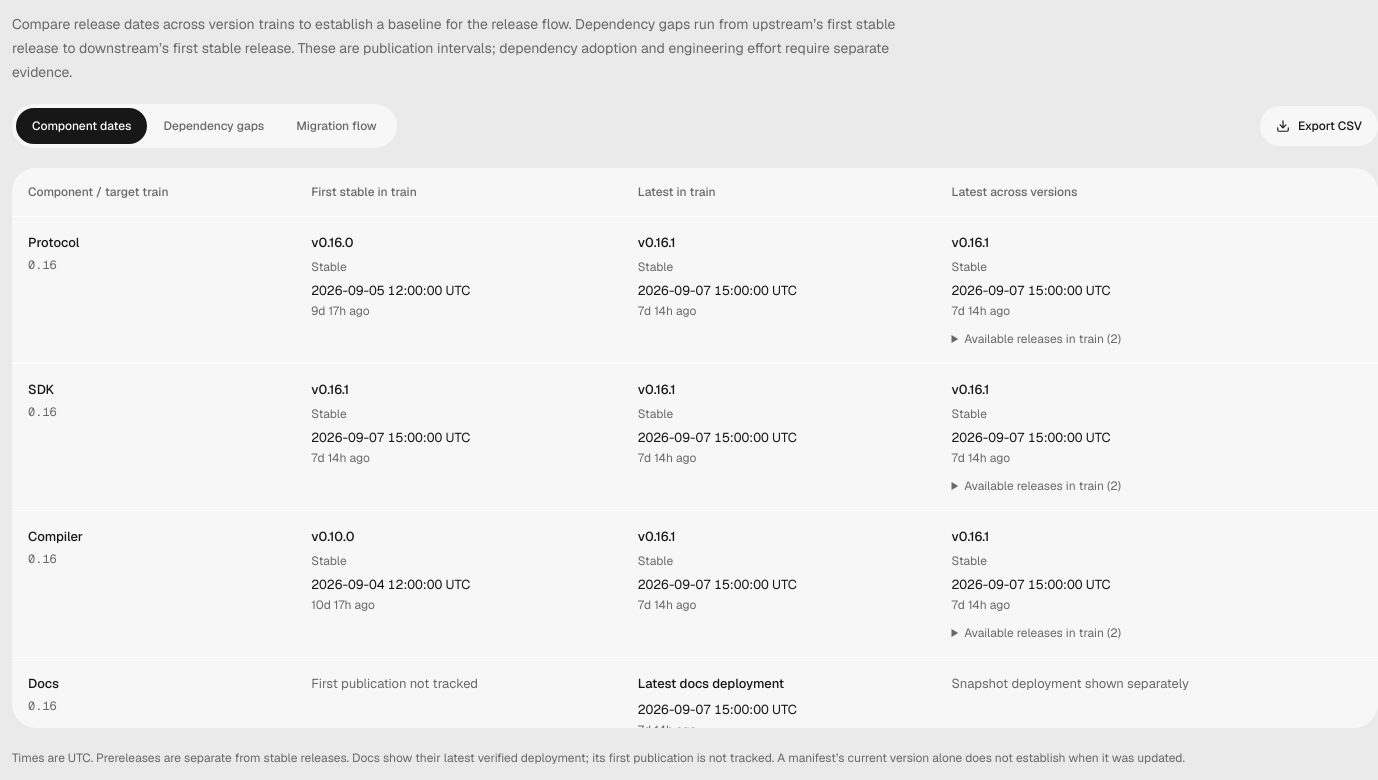
Scenario: ReleaseTimingPanel › switches to signed release gaps and keeps unknown and unmonitored evidence explicit
The image size is (1378, 780).
Expected: the text "First publication not tracked" is shown, [311,675,478,692]
Expected: the link "Latest docs deployment" is shown, [638,674,784,694]
Click the button "Dependency gaps" at [214, 126], box [148,108,280,144]
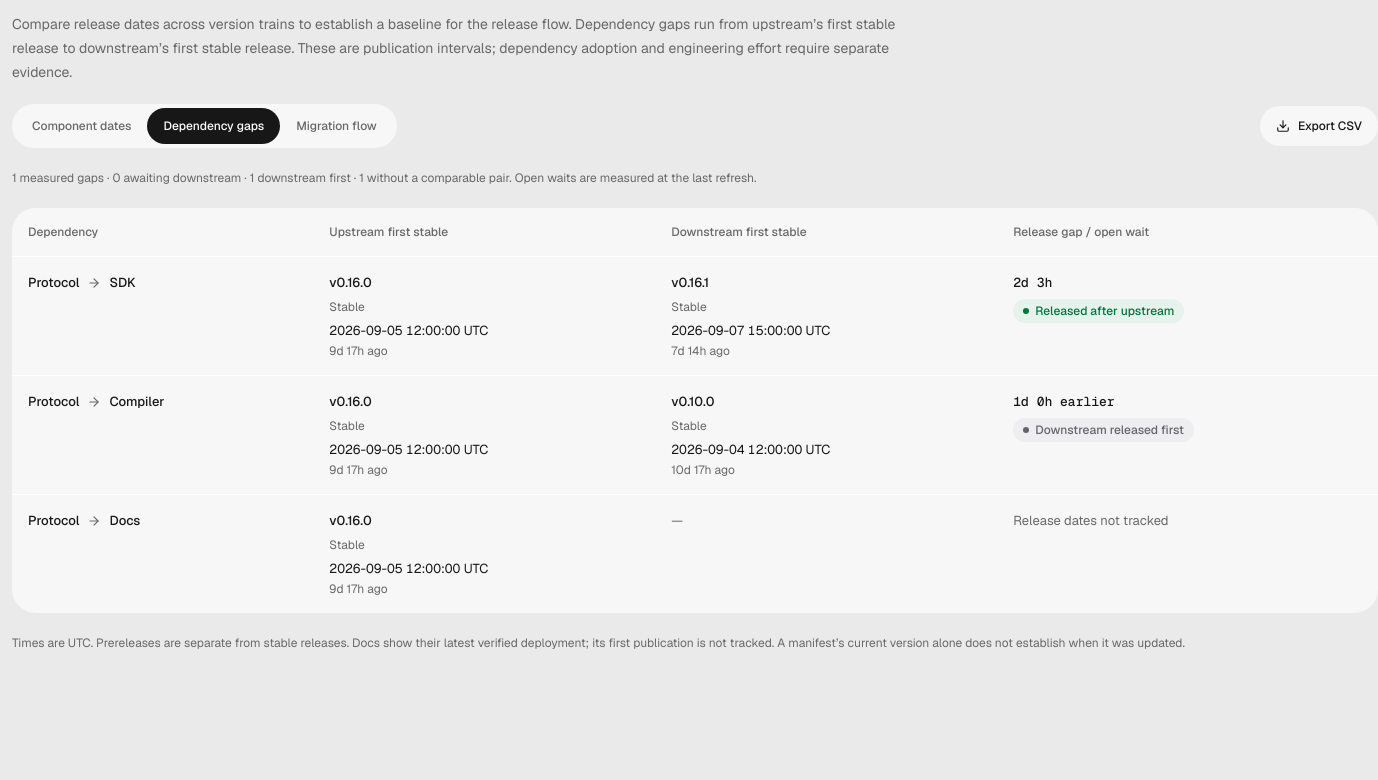
Expected: the text "2d 3h" is shown, [1013,273,1052,293]
Expected: the text "1d 0h earlier" is shown, [1013,392,1115,412]
Expected: the text "Downstream released first" is shown, [1013,418,1194,442]
